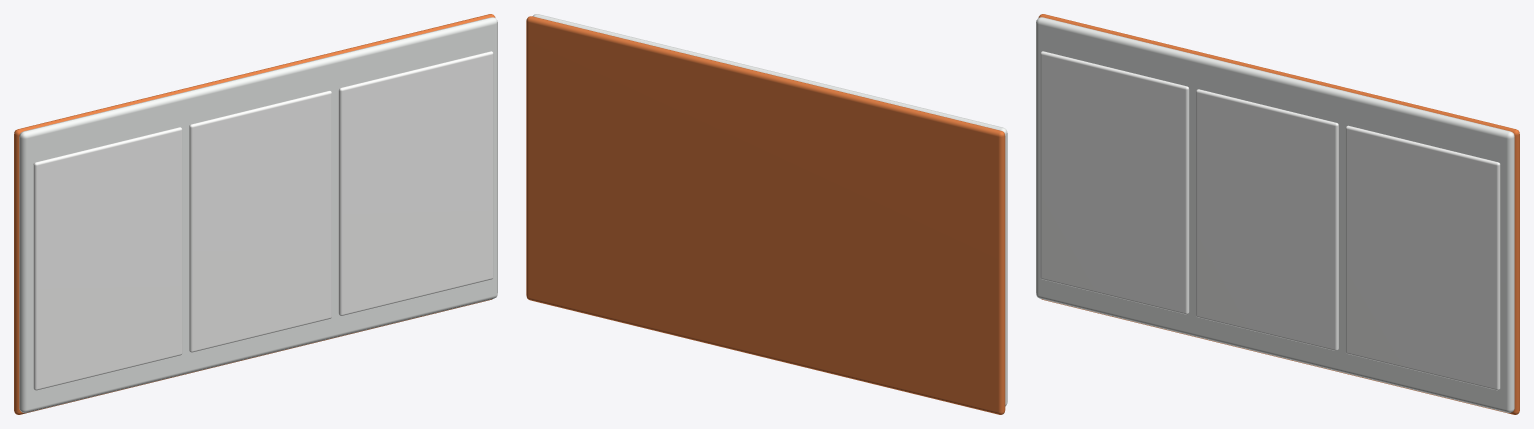
File: signal-console.glb
3 renders of one model, left to right at view 1: azimuth 30°, elevation 25°; view 2: azimuth 150°, elevation 25°; view 3: azimuth 330°, elevation 25°, orthographic.
Visible parts, largest first — view 1: RulesTray, PhotoTray, Shell, ReadingTray, Edge; view 2: Edge, Shell; view 3: RulesTray, PhotoTray, Shell, ReadingTray, Edge.
Boxes of the visible parts, x1=… form: RulesTray: x1=338, y1=51, x2=493, y2=315; PhotoTray: x1=33, y1=127, x2=182, y2=390; Shell: x1=19, y1=17, x2=497, y2=412; ReadingTray: x1=189, y1=90, x2=331, y2=352; Edge: x1=14, y1=14, x2=495, y2=414; Edge: x1=526, y1=16, x2=1005, y2=414; Shell: x1=533, y1=14, x2=1007, y2=406; RulesTray: x1=1345, y1=125, x2=1500, y2=390; PhotoTray: x1=1040, y1=51, x2=1189, y2=314; Shell: x1=1036, y1=17, x2=1514, y2=412; ReadingTray: x1=1196, y1=89, x2=1338, y2=350; Edge: x1=1038, y1=14, x2=1519, y2=414.
Size of the model in its own units: 9.66 by 5.48 by 0.43.
